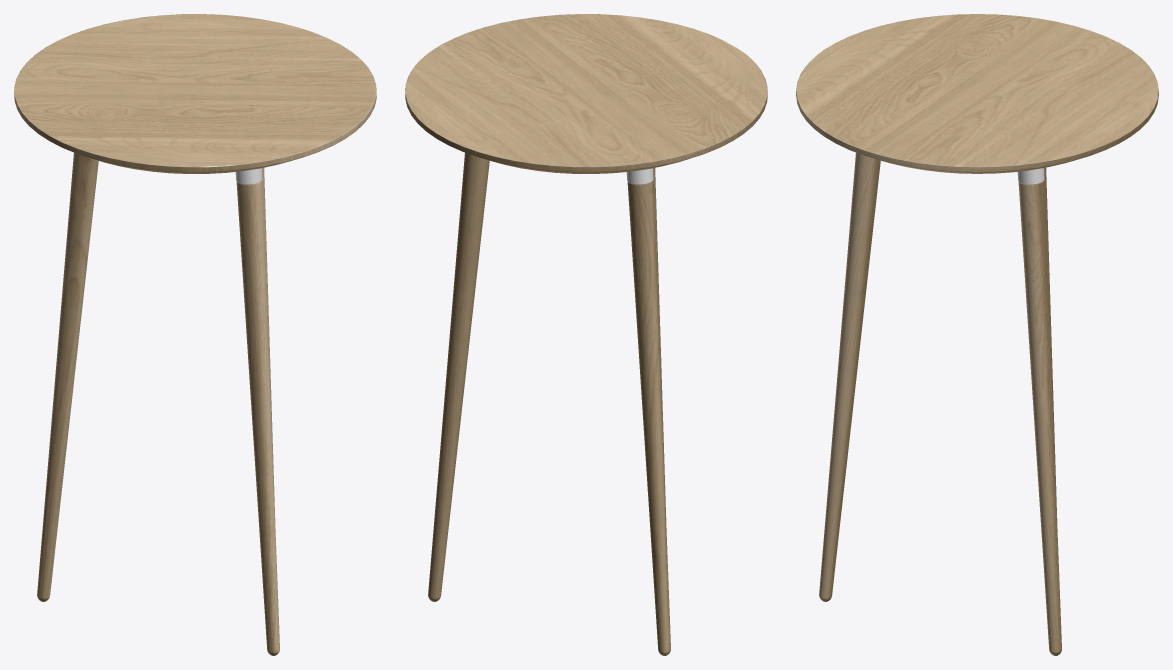
The model's file is edelweiss_bar_table_ash_and_white.glb.
3 renders of one model, left to right at view 1: azimuth 30°, elevation 25°; view 2: azimuth 150°, elevation 25°; view 3: azimuth 270°, elevation 25°, orthographic.
Parts seen in each view (by area): view 1: WALNUT_EDGE; view 2: WALNUT_EDGE; view 3: WALNUT_EDGE.
Part boxes in pixels (<box>): WALNUT_EDGE: <box>14,14,376,655</box>; WALNUT_EDGE: <box>405,14,767,655</box>; WALNUT_EDGE: <box>796,14,1158,655</box>.
Size of what is drawn, in the model's own units: 61.07 by 94.72 by 61.07.
Materials: 3 (2 with a texture image).
